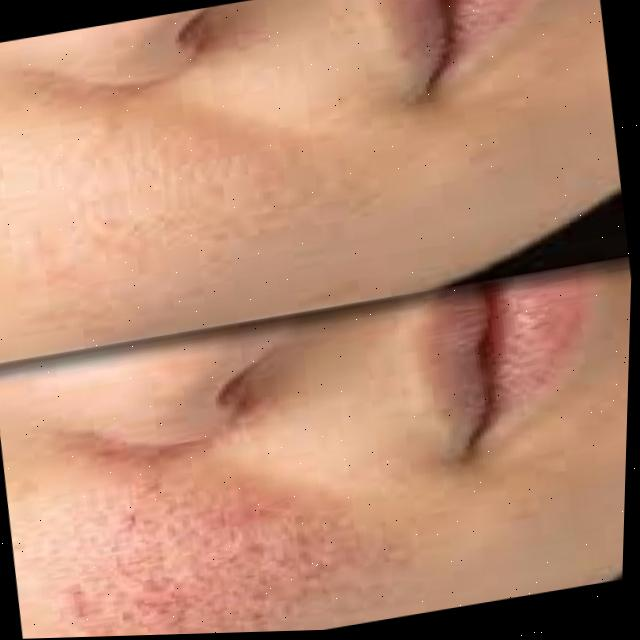Rosacea: (62, 468, 341, 638)
